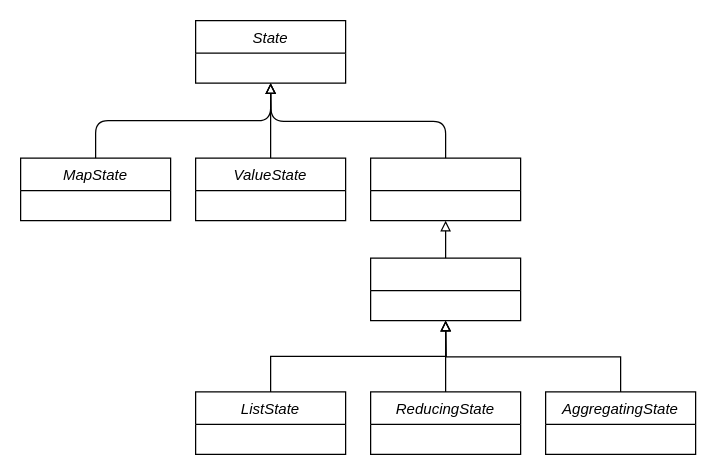
Some shapes in this 716 by 475 pixel diagram are drawn without their labels. Here are the shapes that lost their labels. From the top down, the box of each, then its label:
(369, 157, 521, 221): AppendingState
(369, 257, 521, 321): MergingState
